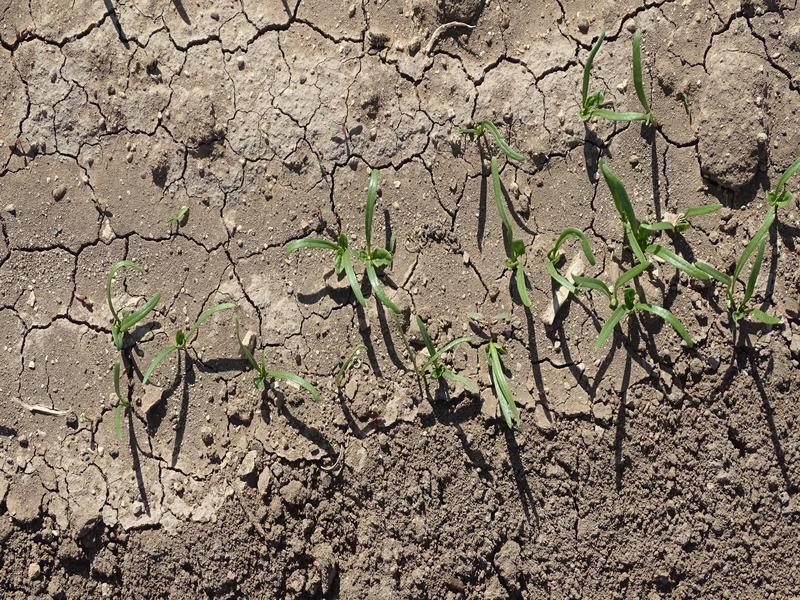Espinaca: (607, 211, 779, 293), (146, 302, 243, 380), (577, 38, 659, 129), (490, 156, 532, 307), (292, 230, 367, 307), (591, 303, 693, 357), (364, 173, 404, 309), (107, 260, 159, 337), (242, 349, 317, 397), (543, 227, 594, 296), (486, 341, 521, 425), (636, 204, 725, 235), (465, 119, 531, 158), (107, 364, 138, 444)
